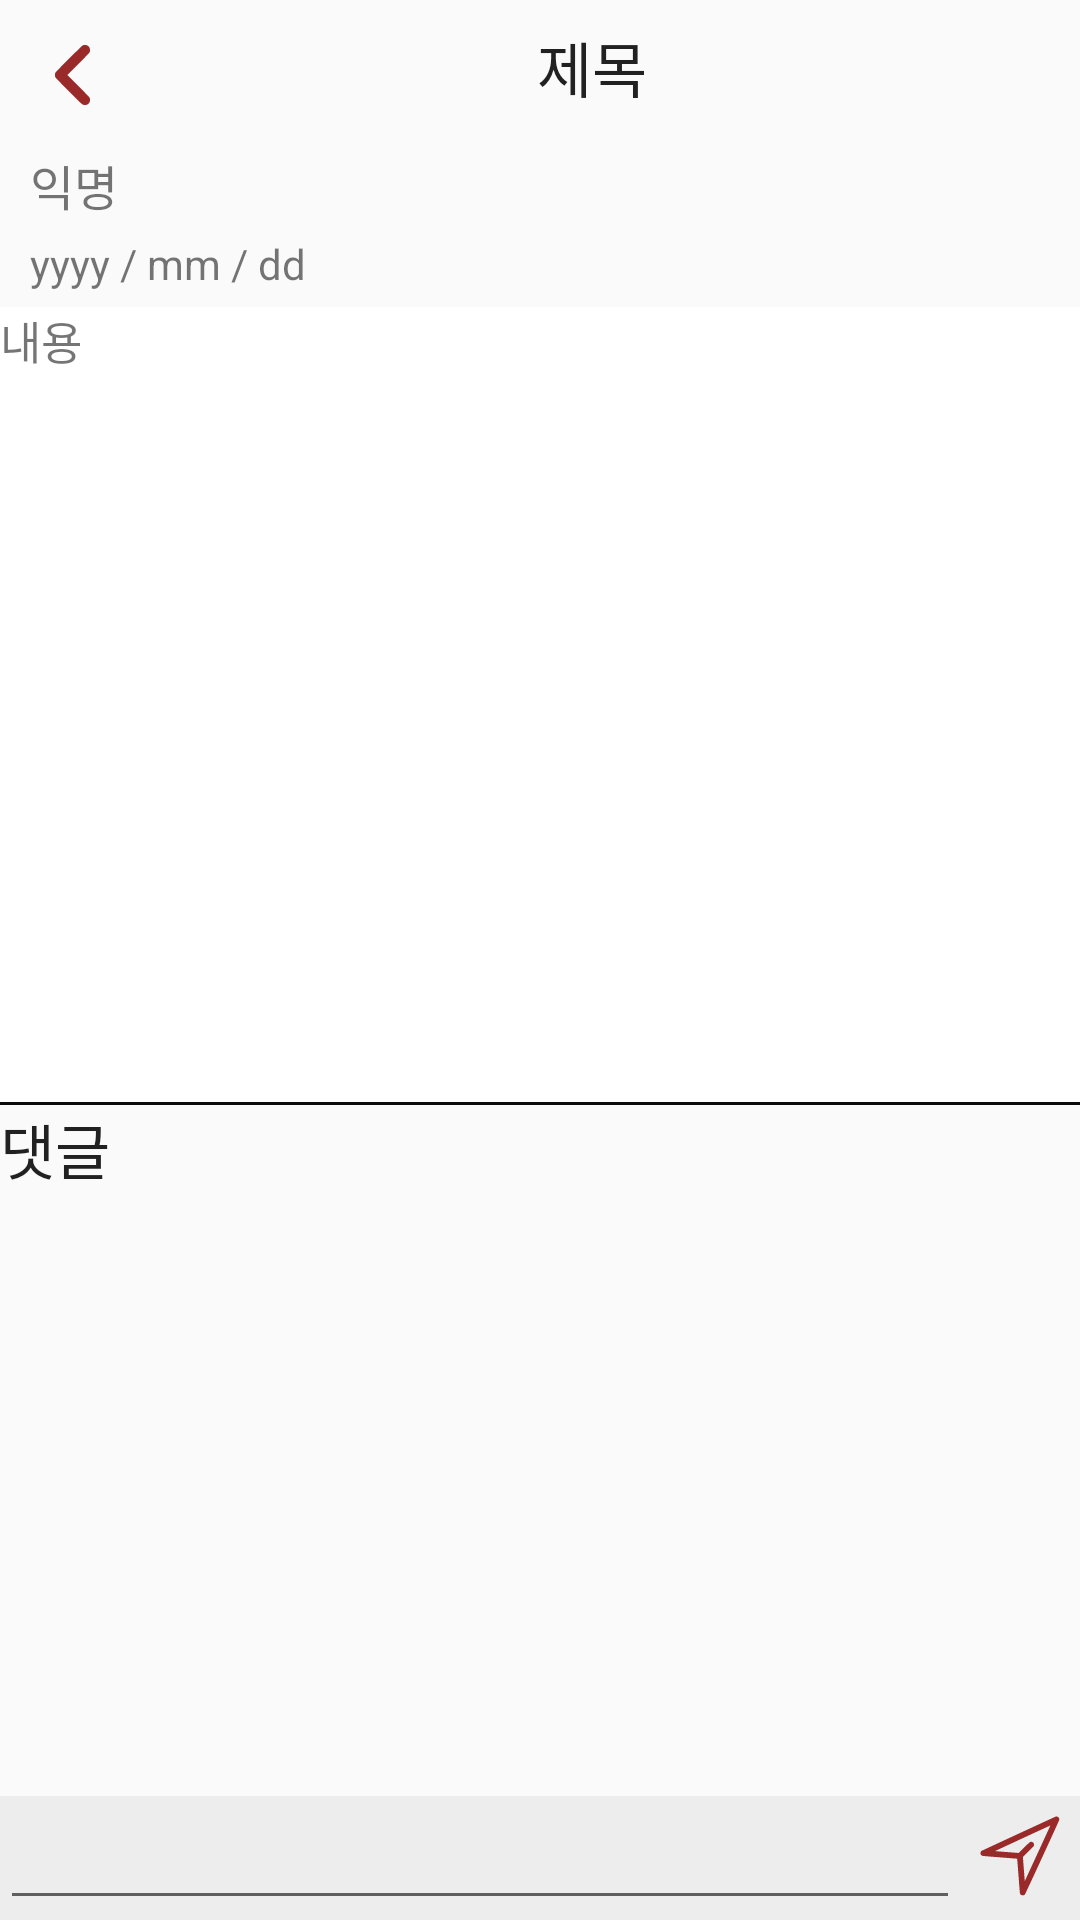

Point at icon controls on the screen. Image size 1080 × 1920, points as point (x, y).
before: point (72, 75)
send: point (1020, 1856)
